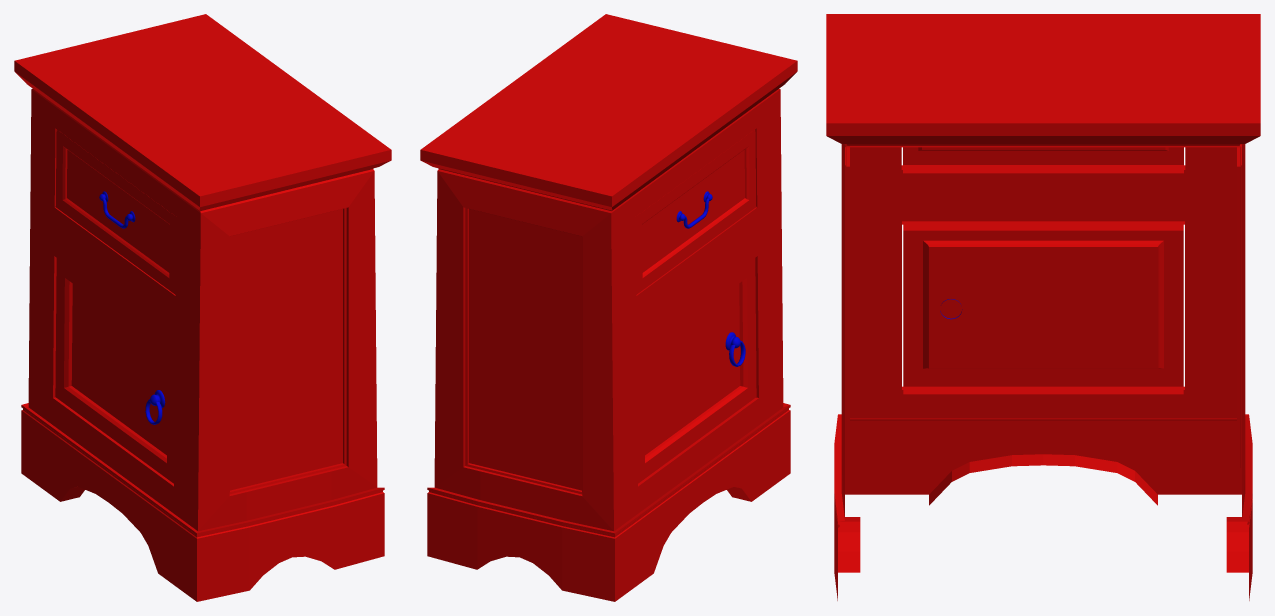
File: chevet.fbx
The picture shows the model from 3 angles, left to right: view 1: azimuth 30°, elevation 25°; view 2: azimuth 150°, elevation 25°; view 3: azimuth 270°, elevation 25°; orthographic projection. The views are drawn at different scales.
Parts seen in each view (by area): view 1: table_chevet; view 2: table_chevet; view 3: table_chevet.
Boxes of the visible parts, box(x1,y1,x2,y2) form: table_chevet: box(14, 14, 391, 601); table_chevet: box(420, 14, 797, 601); table_chevet: box(826, 14, 1260, 600).
Bounding box in the file's own units: 32.25 × 65.91 × 54.1.
